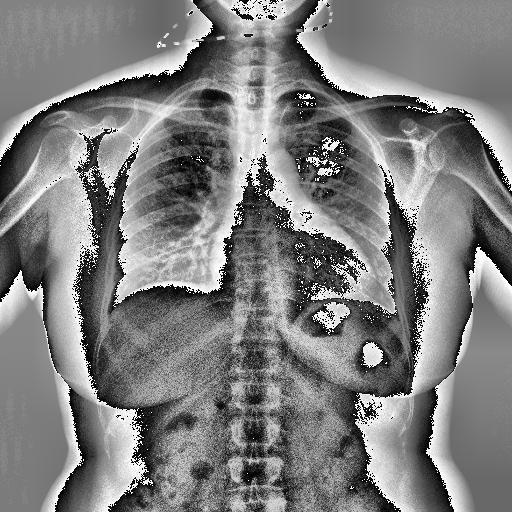3- Cardiomegaly: (201, 196, 387, 332), (196, 225, 392, 313), (204, 224, 378, 310)
